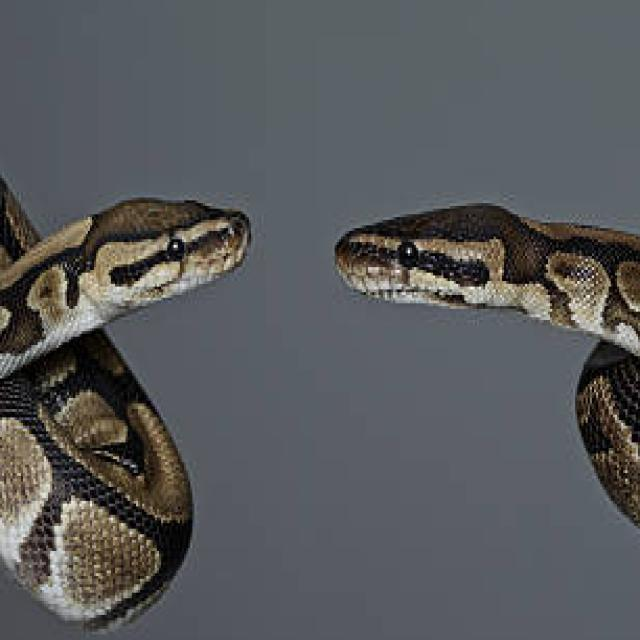Snake: (332, 0, 640, 548), (0, 0, 251, 634)
